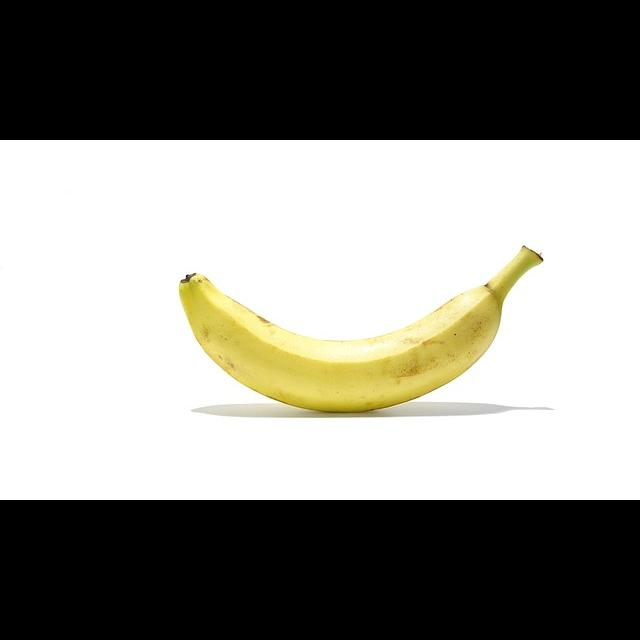apple: (177, 269, 502, 419)
